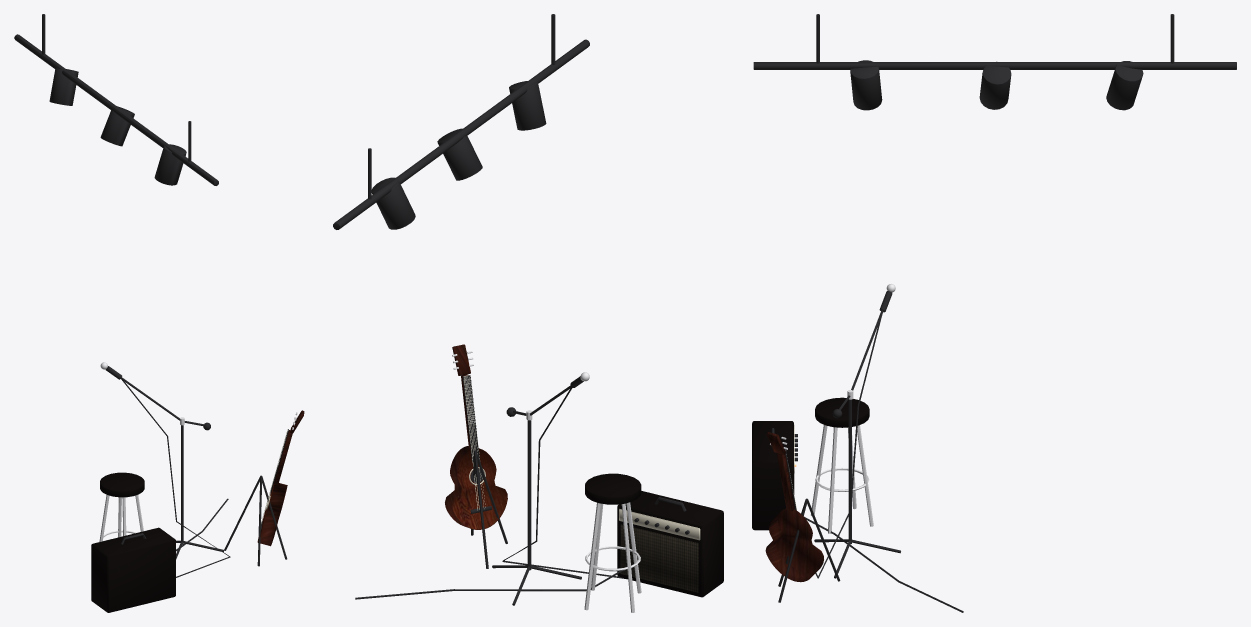
File: stage.glb
The picture shows the model from 3 angles, left to right: view 1: azimuth 30°, elevation 25°; view 2: azimuth 150°, elevation 25°; view 3: azimuth 270°, elevation 25°; orthographic projection. The views are drawn at different scales.
Visible parts, largest first — view 1: Amp tolex, Stage black, Guitar back, Stage chrome; view 2: Stage black, Amp tolex, Amp grille, Guitar top, Stage chrome, Guitar back, Amp cream, Guitar string; view 3: Stage black, Amp tolex, Guitar back, Stage chrome.
Boxes of the visible parts, x1,y1,x2,y2 form: Amp tolex: (91, 472, 175, 612); Stage black: (14, 14, 288, 577); Guitar back: (260, 410, 304, 546); Stage chrome: (99, 362, 297, 541); Stage black: (333, 14, 689, 605); Amp tolex: (585, 473, 723, 597); Amp grille: (620, 524, 698, 592); Guitar top: (452, 449, 507, 529); Stage chrome: (452, 351, 641, 612); Guitar back: (445, 344, 507, 529); Amp cream: (469, 467, 700, 540); Guitar string: (464, 375, 485, 510); Stage black: (753, 14, 1236, 612); Amp tolex: (752, 397, 869, 530); Guitar back: (765, 432, 823, 582); Stage chrome: (770, 284, 895, 533).
Size of the model in its own units: 1.8 by 3.7 by 3.01.
Materials: 10 (4 with a texture image).
